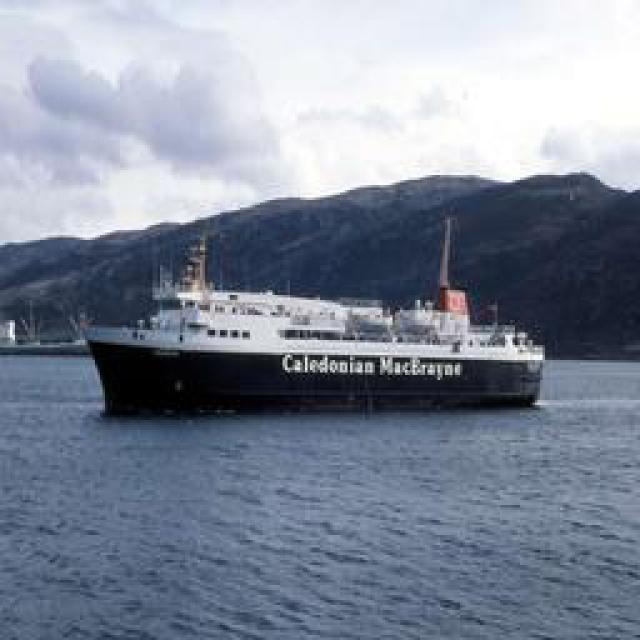Ship: (80, 239, 550, 412)
